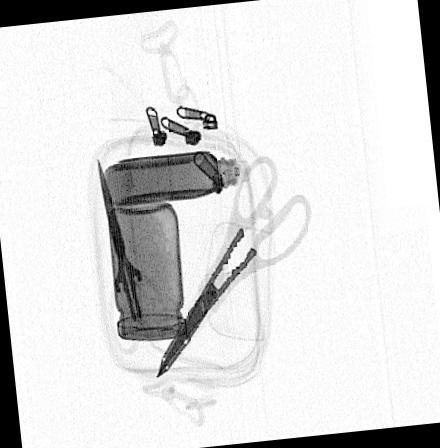Scissors: (156, 156, 310, 377), (97, 154, 173, 351)
